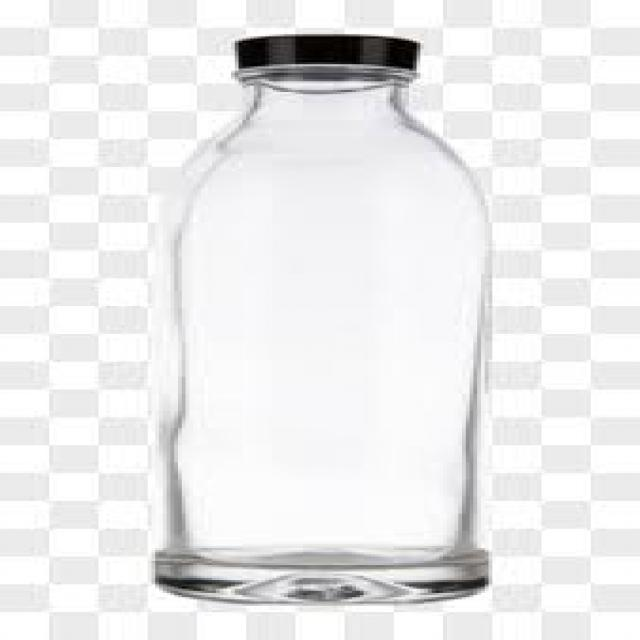Glass-Non-Biodegradable but Recyclable-: (155, 34, 494, 603)
